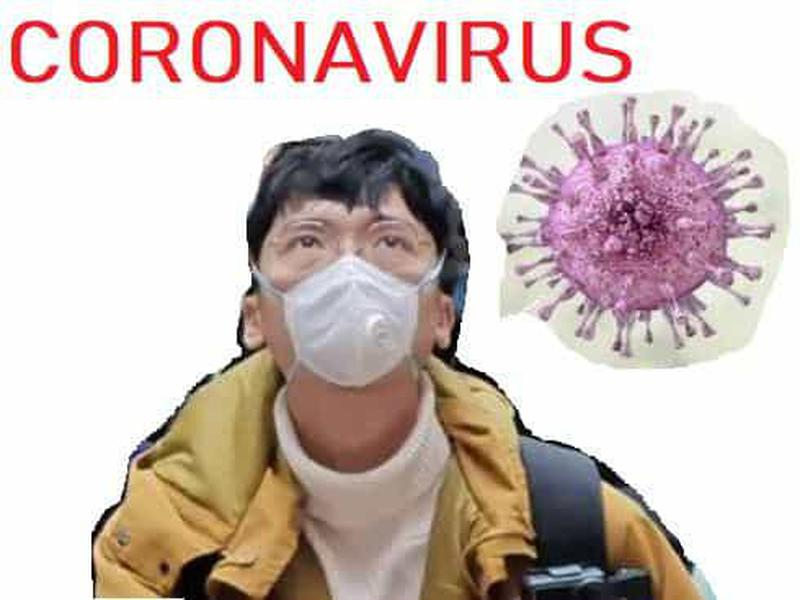with_mask: (255, 179, 435, 389)
